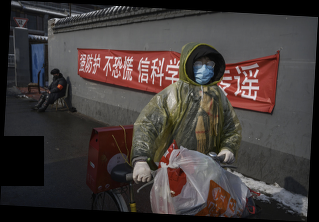with_mask: (192, 56, 216, 86)
